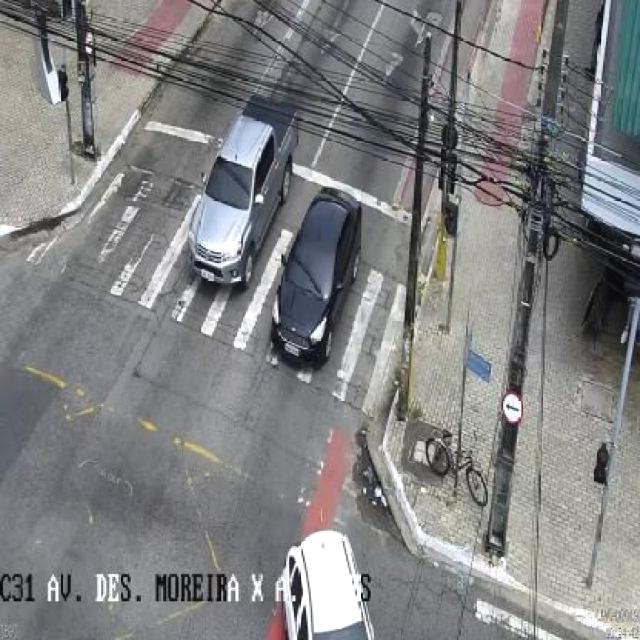Car: (187, 93, 291, 295), (264, 194, 364, 370), (268, 519, 385, 640)
Cycle: (411, 425, 505, 515)
